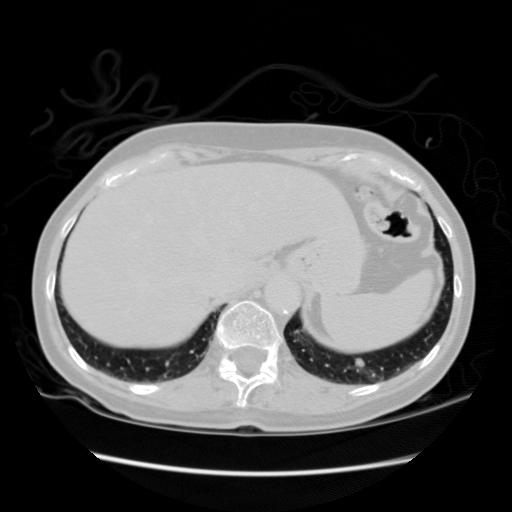nodule: (352, 355, 367, 370)
